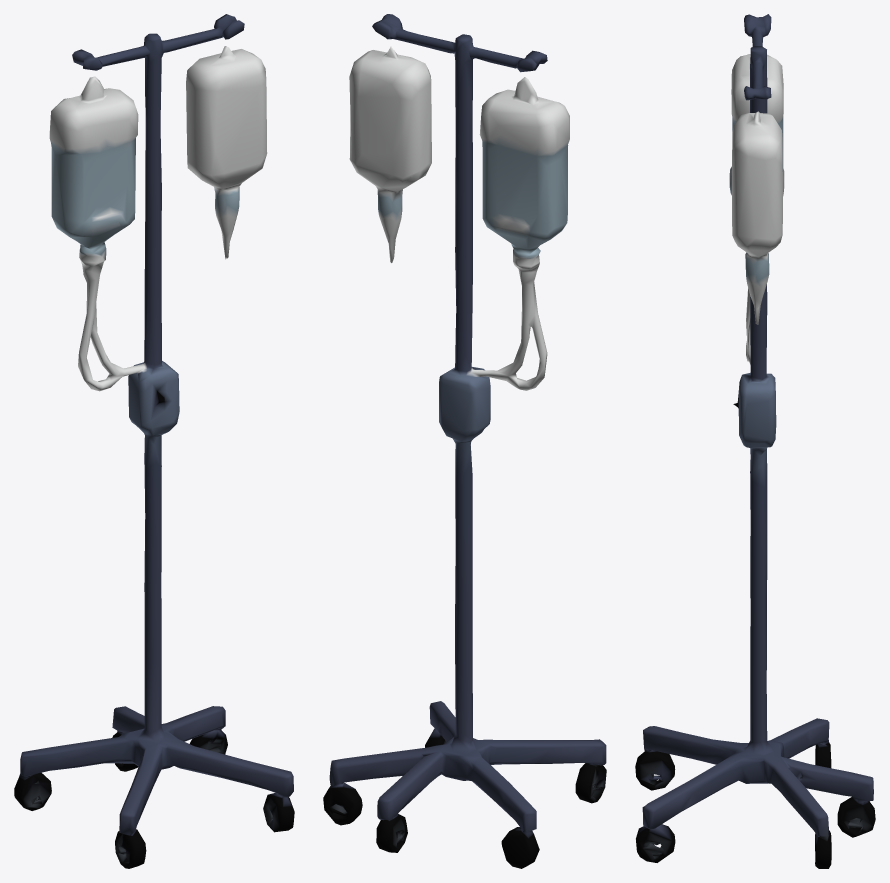
The model's file is gen3d-drip-stand-lod0.glb.
3 renders of one model, left to right at view 1: azimuth 30°, elevation 25°; view 2: azimuth 150°, elevation 25°; view 3: azimuth 270°, elevation 25°, orthographic.
Visible parts, largest first — view 1: part_0; view 2: part_0; view 3: part_0.
Boxes of the visible parts, <box> form: part_0: <box>14,14,294,868</box>; part_0: <box>323,14,606,868</box>; part_0: <box>635,14,875,868</box>.
Bounding box in the file's own units: 0.286 × 0.9995 × 0.2806.
